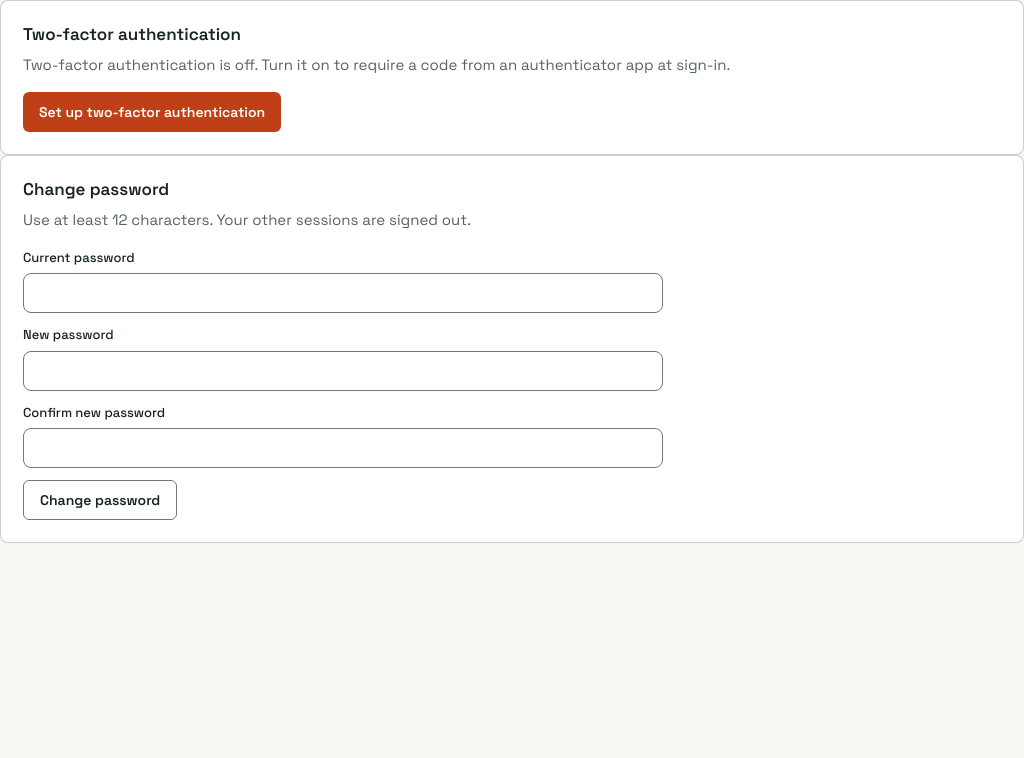
Test case: enrols with the setup key, confirms with password and code, and shows recovery codes once
Step 1. Click the button "Set up two-factor authentication" → (152, 112), box left=23, top=92, right=281, bottom=132
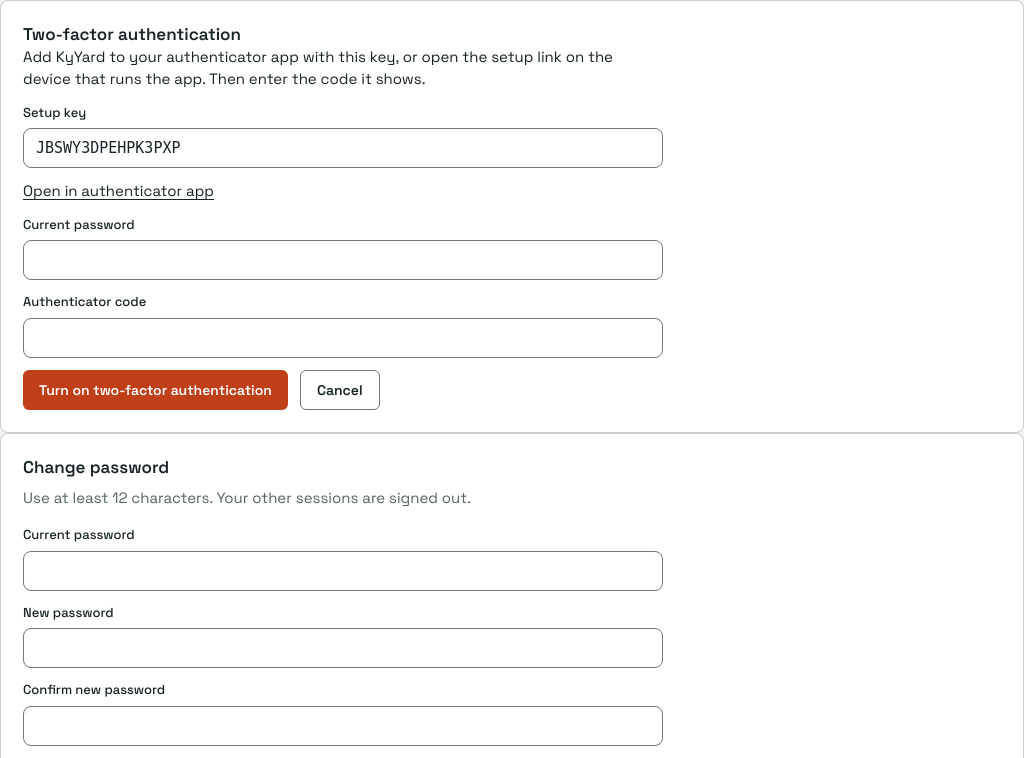
Now the field labelled "Setup key" holds "JBSWY3DPEHPK3PXP", box left=23, top=128, right=663, bottom=168
Step 2. Type "local-secret" into the password field labelled "Current password" below "Open in authenticator app" → (343, 260), box left=23, top=240, right=663, bottom=280
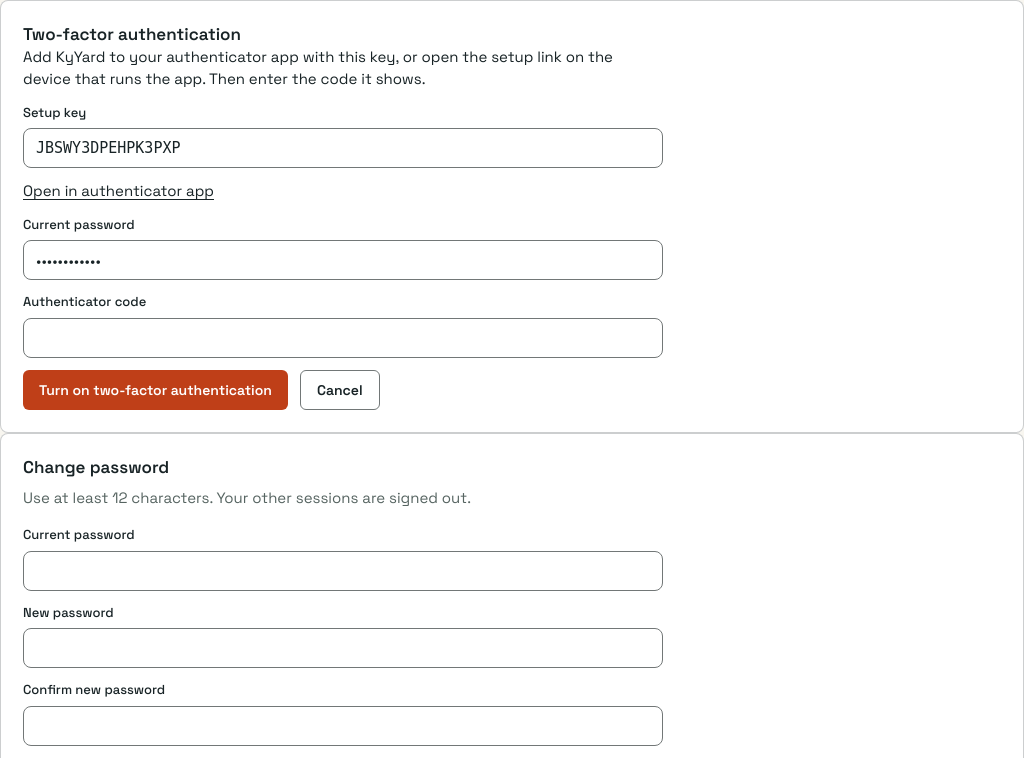
Step 3. Type "123456" into the field labelled "Authenticator code" → (343, 338), box left=23, top=318, right=663, bottom=358
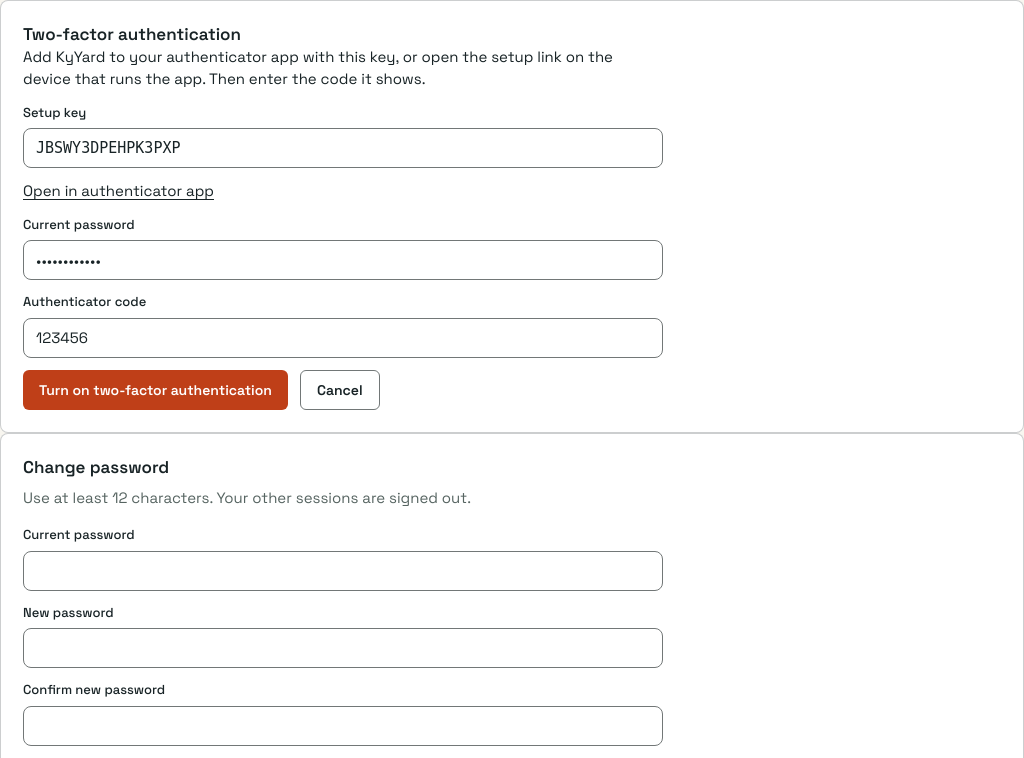
Step 4. Click the button "Turn on two-factor authentication" → (155, 390), box left=23, top=370, right=288, bottom=410
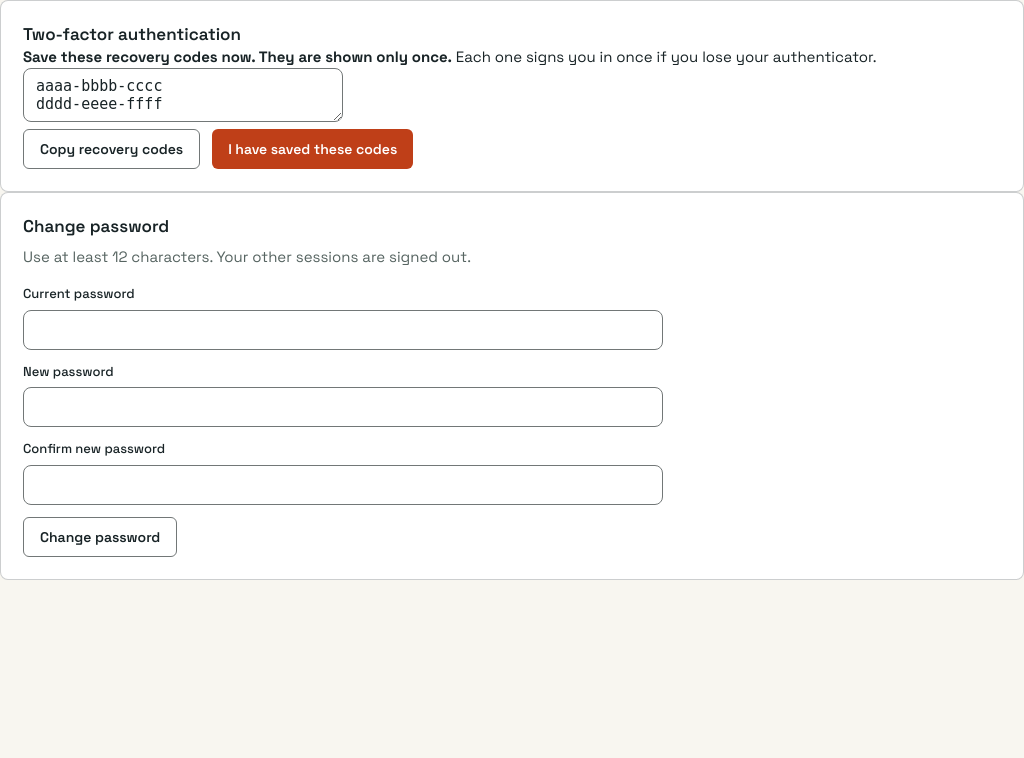
Step 5. Click the button "I have saved these codes" → (313, 149), box left=212, top=129, right=413, bottom=169
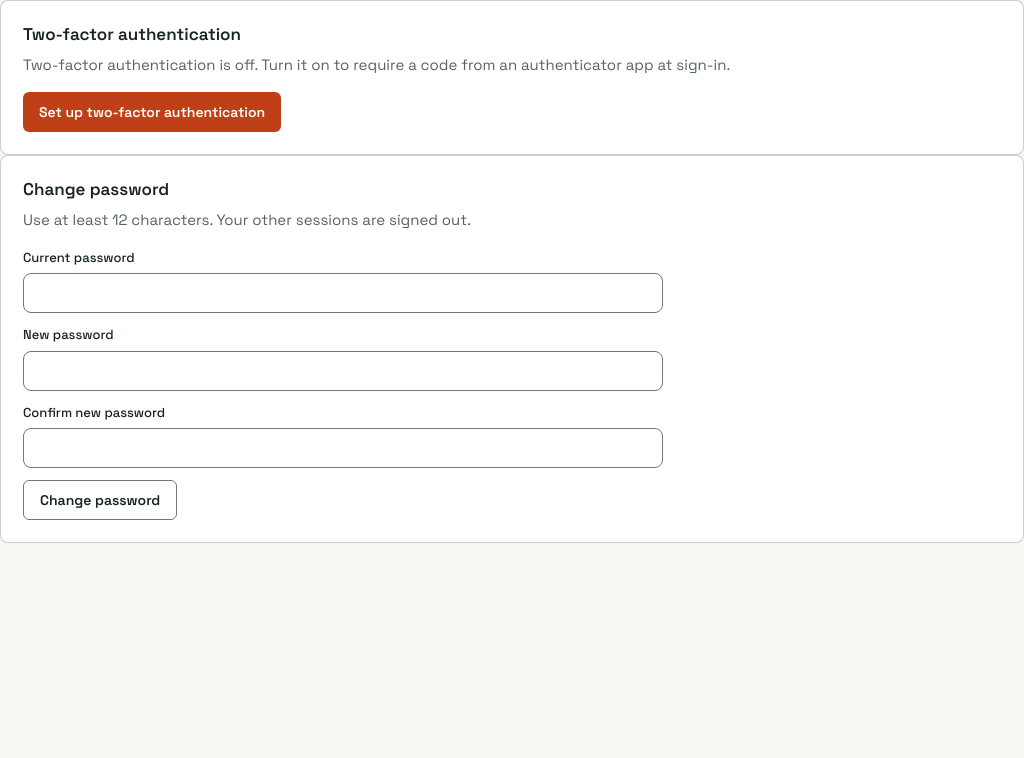
Now the text "recovery codes" is gone
